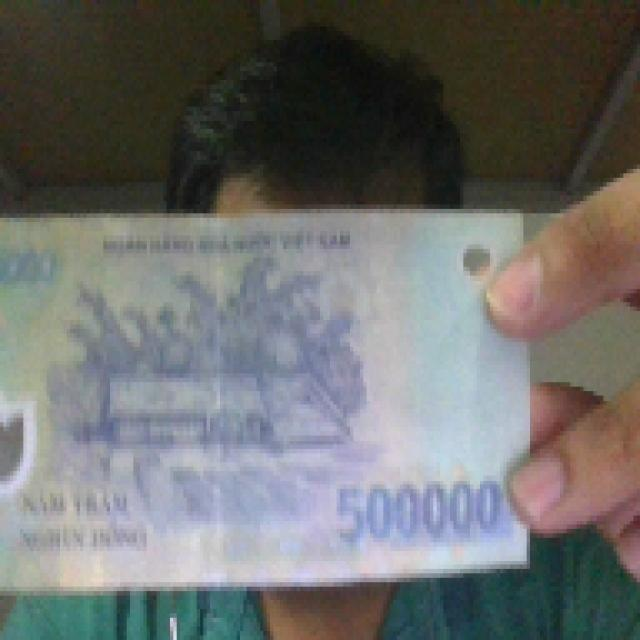500 000 VND: (0, 200, 540, 600)
